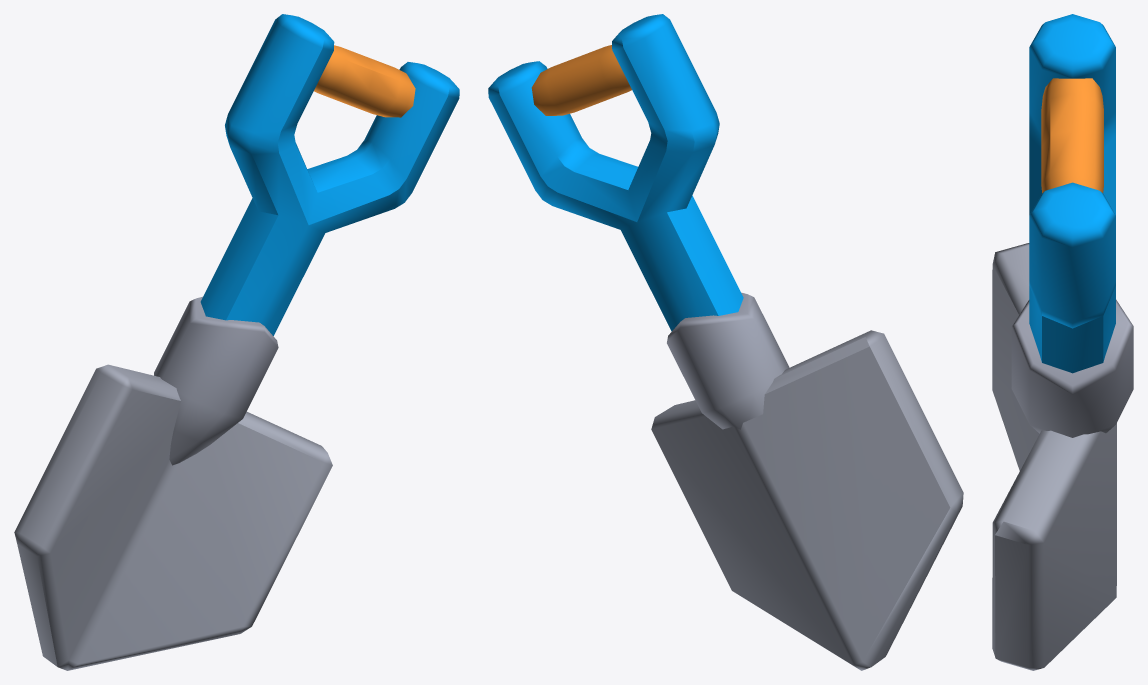
3 renders of one model, left to right at view 1: azimuth 30°, elevation 25°; view 2: azimuth 150°, elevation 25°; view 3: azimuth 270°, elevation 25°, orthographic. The views are drawn at different scales.
Visible parts, largest first — view 1: model_0.073; view 2: model_0.073; view 3: model_0.073.
Part boxes in pixels (bbox=[...]): model_0.073: bbox=[14, 14, 459, 670]; model_0.073: bbox=[488, 14, 963, 670]; model_0.073: bbox=[992, 14, 1133, 670].
Size of the model in its own units: 3.27 by 4.11 by 0.7315.
